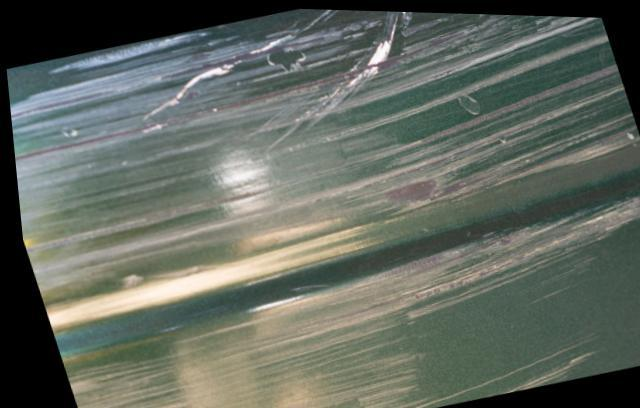scratch: (5, 7, 640, 408)
